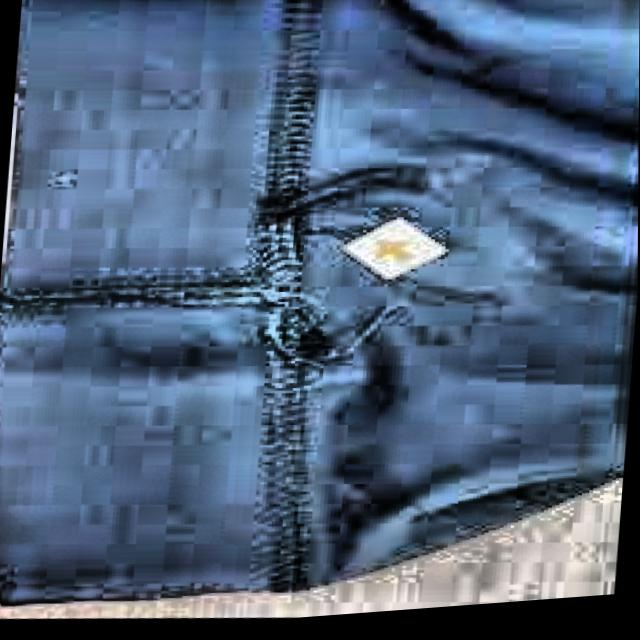Stitch: (198, 281, 470, 408), (202, 132, 426, 246)
